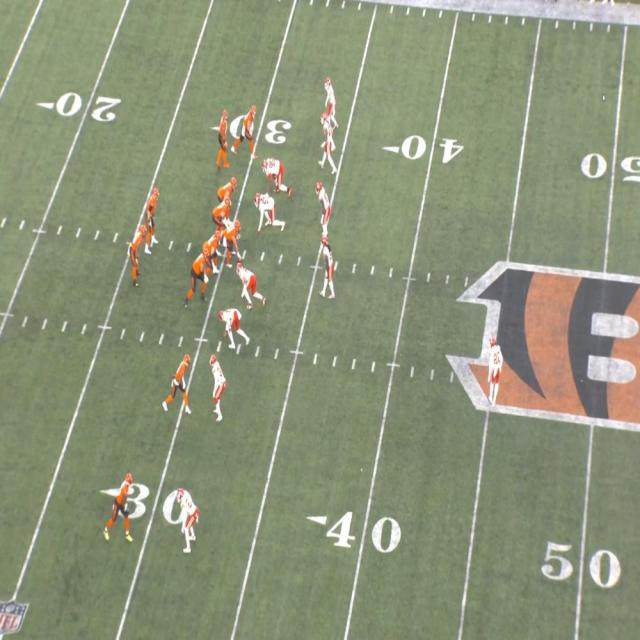center: (226, 220, 246, 257)
db: (174, 490, 200, 551), (208, 354, 226, 417), (322, 116, 337, 168), (327, 76, 339, 115)
lb: (487, 338, 502, 408), (314, 180, 331, 238), (321, 236, 335, 298)
qb: (145, 190, 163, 242)
skill: (105, 474, 138, 538), (165, 356, 193, 408), (127, 223, 147, 286), (238, 108, 258, 149), (218, 110, 235, 152)
